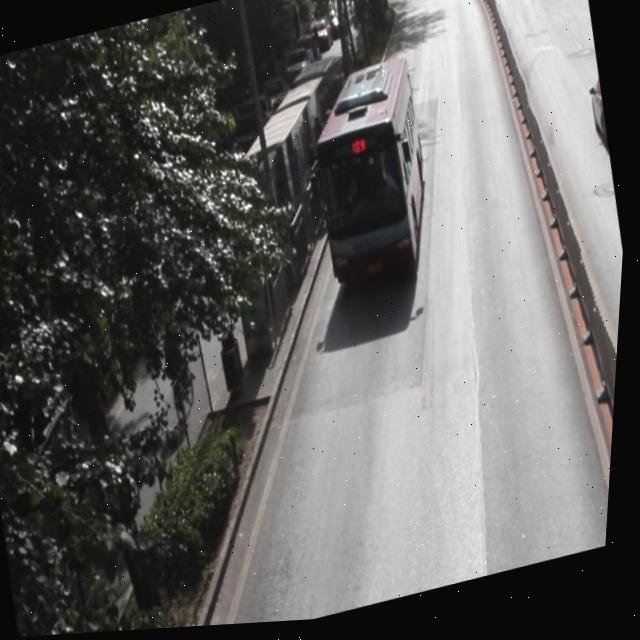car: (583, 78, 615, 161)
van: (298, 58, 446, 291)
